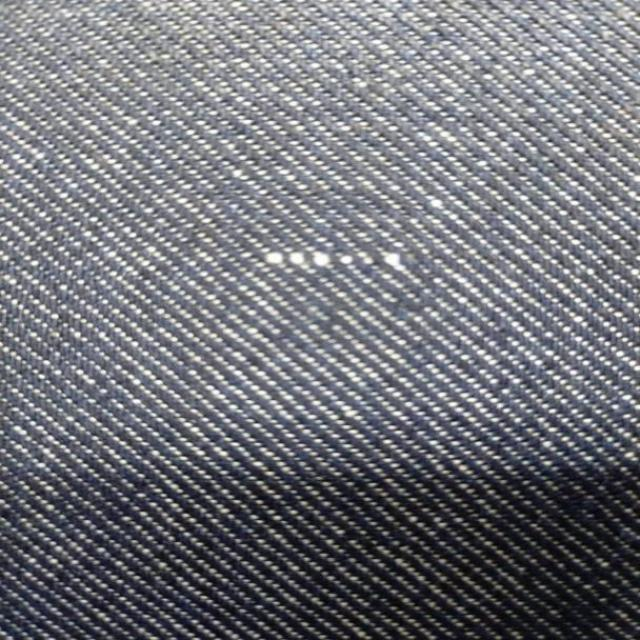Knot: (264, 249, 377, 269), (380, 253, 405, 272)
